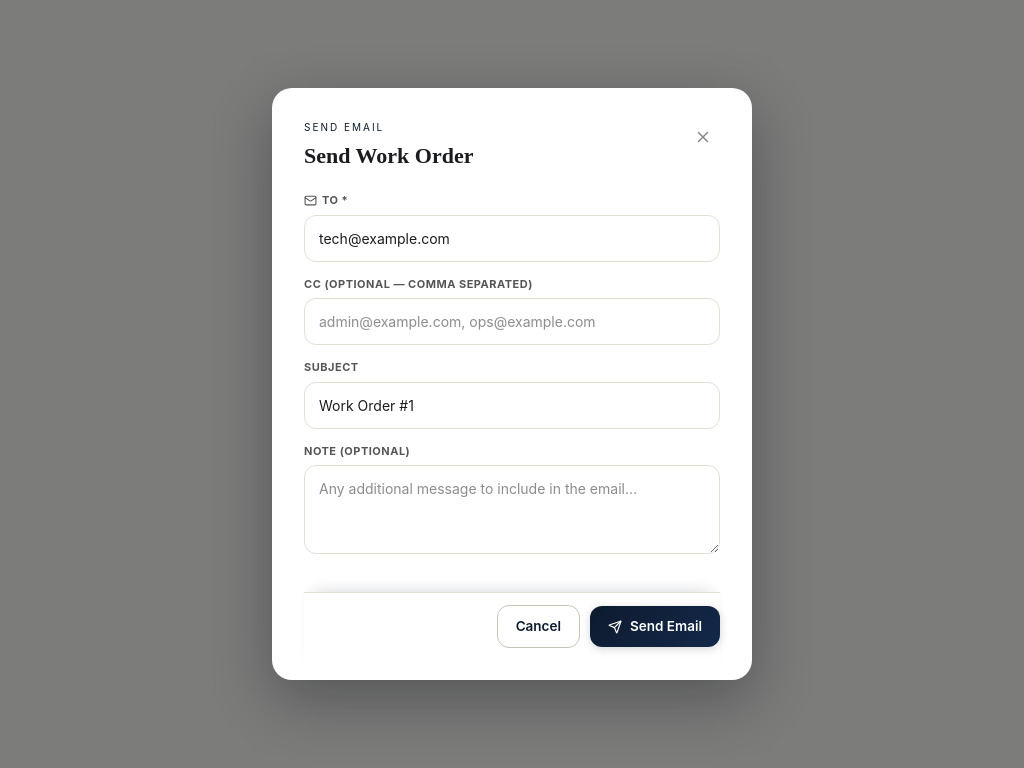
Test: EmailModal › shows the server's own message when it gives one
The image size is (1024, 768).
Click the button "Send Email" at (655, 627), box 590,606 -> 720,647
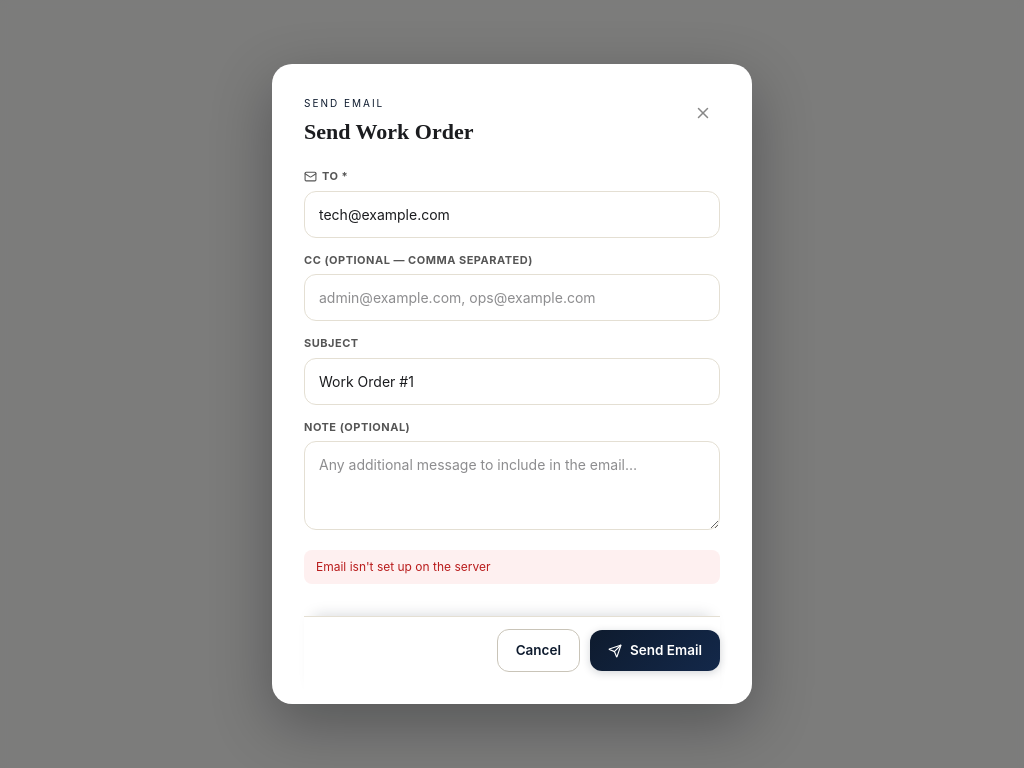
Check: the text "Email isn't set up on the server" is shown, box 304,550 -> 720,584
